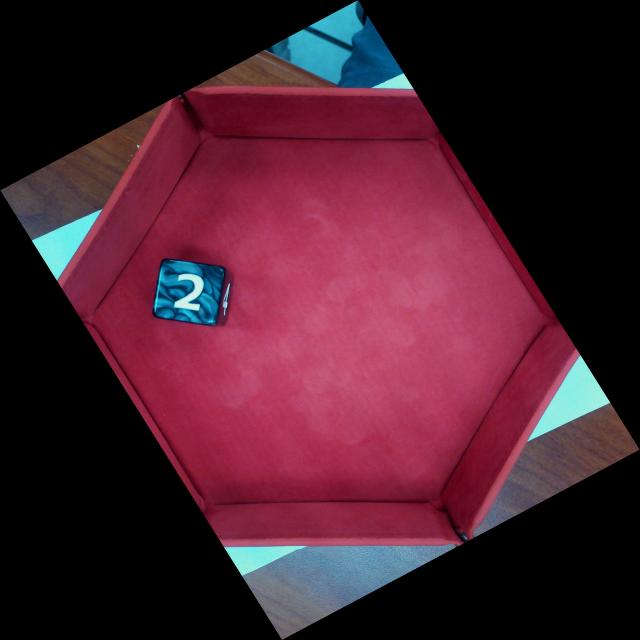dice: (153, 259, 226, 326)
